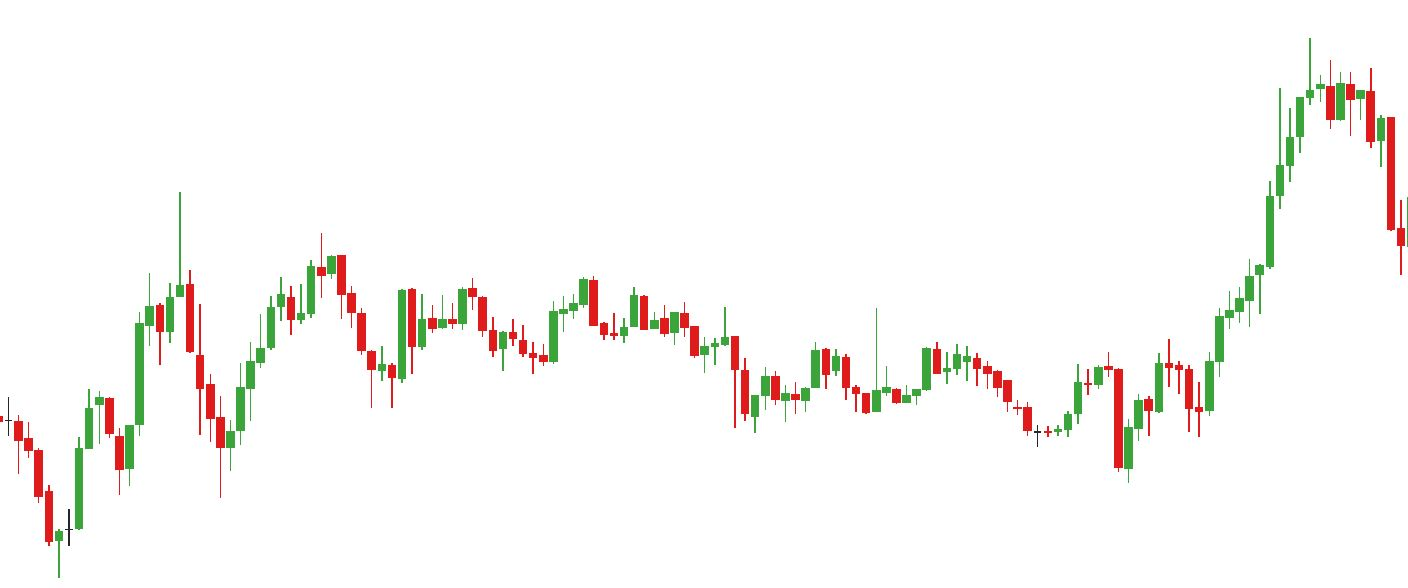buy: (116, 355, 237, 503), (1033, 385, 1135, 492), (1143, 380, 1217, 440)
sell: (455, 277, 599, 342)
